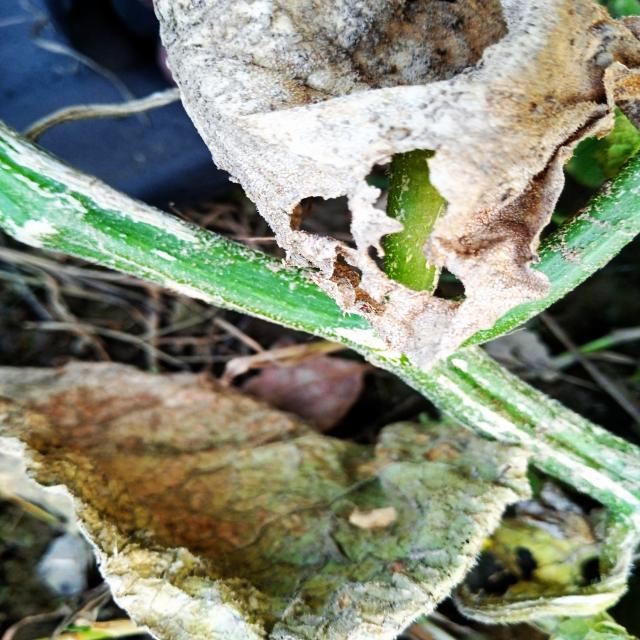Bacterial-Wilt: (151, 0, 640, 374), (0, 363, 537, 639)
